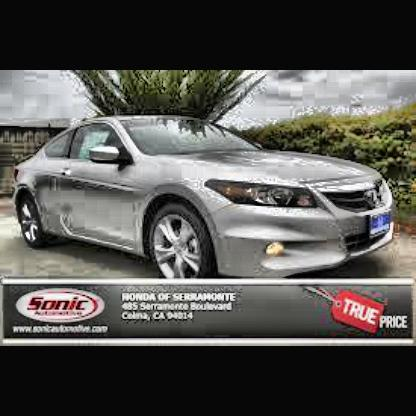Honda Accord Coupe 2012: (13, 112, 398, 284)
